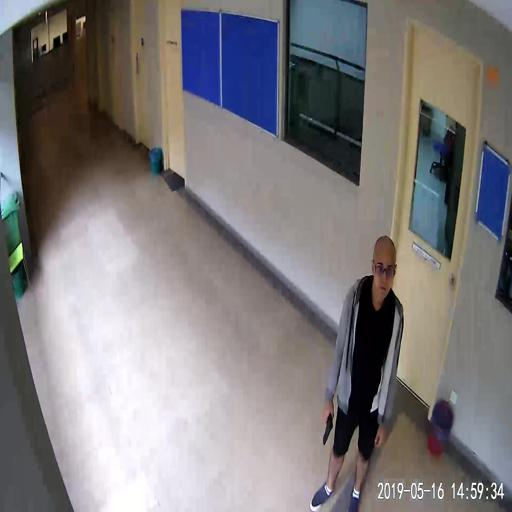pistol: (322, 408, 334, 443)
